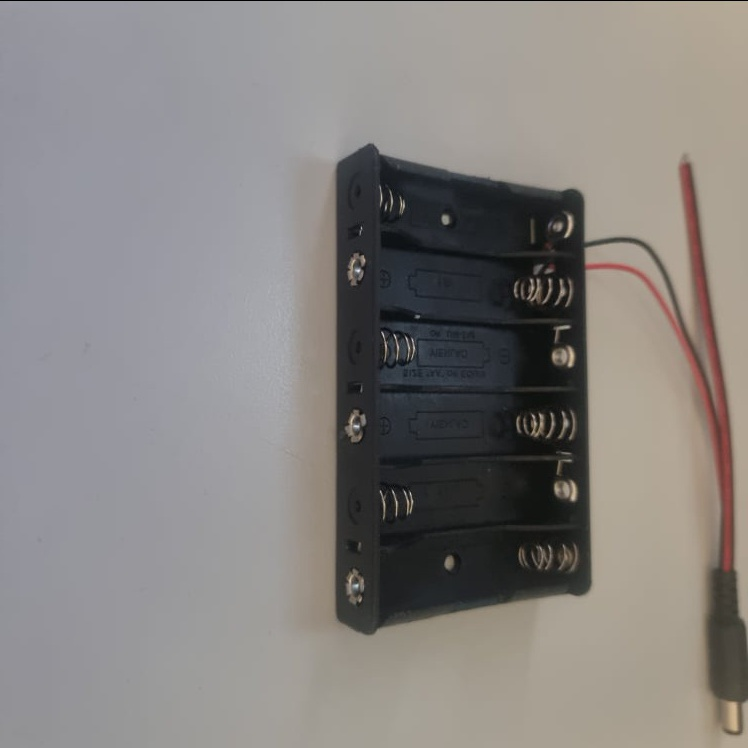BATTERY BOX: (334, 140, 591, 636)
